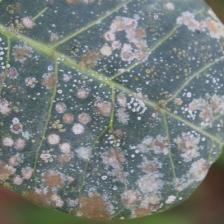red rust: (0, 0, 224, 221)
